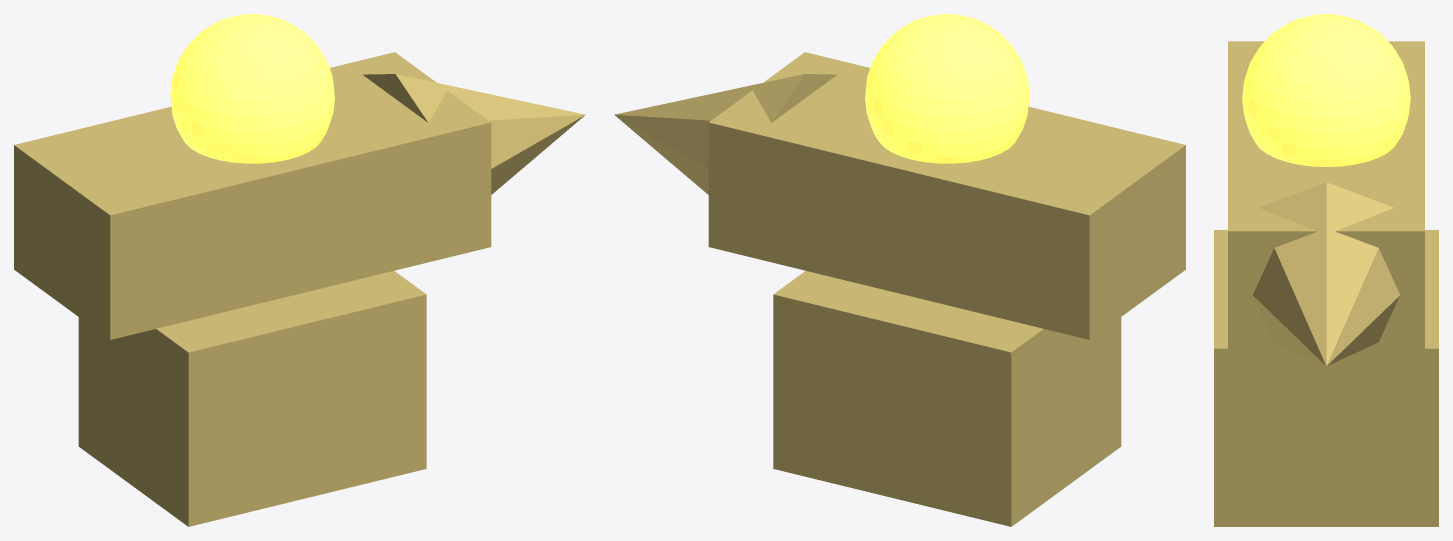
File: IgnisAnvilReliquary.glb
3 renders of one model, left to right at view 1: azimuth 30°, elevation 25°; view 2: azimuth 150°, elevation 25°; view 3: azimuth 270°, elevation 25°, orthographic. The views are drawn at different scales.
Visible parts, largest first — view 1: IgnisAnvilReliquary; view 2: IgnisAnvilReliquary; view 3: IgnisAnvilReliquary.
Part boxes in pixels (x1,y1,x2,y2): IgnisAnvilReliquary: (14,14,585,526); IgnisAnvilReliquary: (614,14,1185,526); IgnisAnvilReliquary: (1214,14,1438,526).
Bounding box in the file's own units: 2.2 × 1.75 × 0.8.
